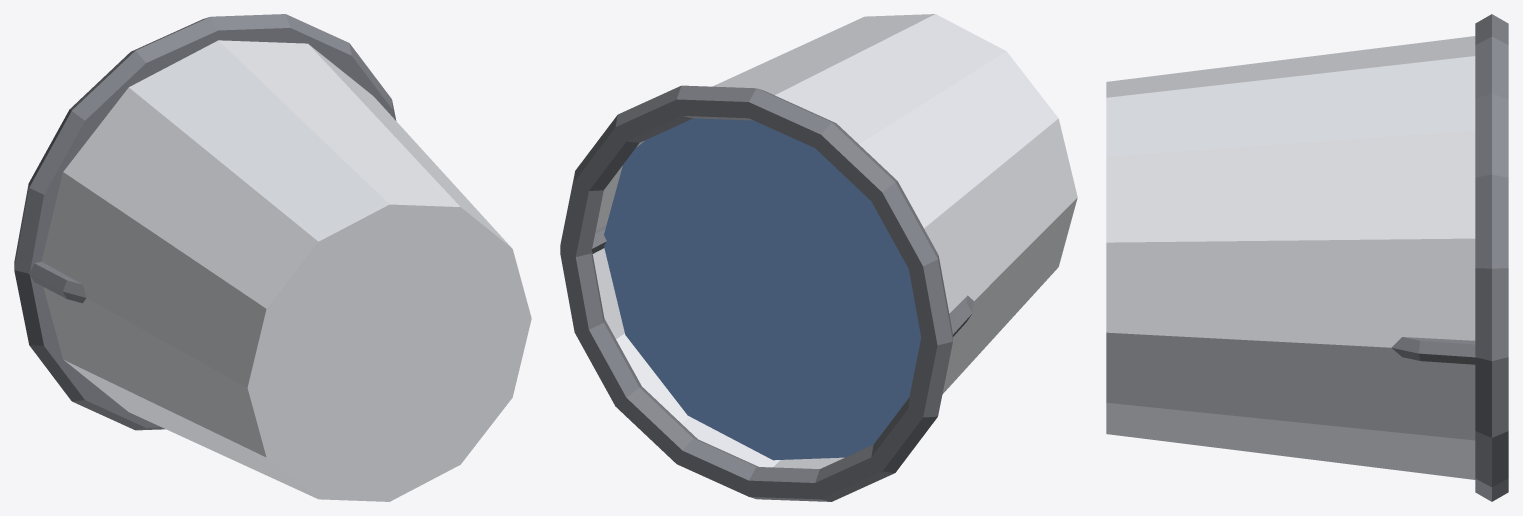
Rendered from bucket_water_held.gltf.
3 views of the same model, side by side, from view 1: azimuth 30°, elevation 25°; view 2: azimuth 150°, elevation 25°; view 3: azimuth 270°, elevation 25° (orthographic). The views are drawn at different scales.
Parts seen in each view (by area): view 1: lakes_bucket_water_held; view 2: lakes_bucket_water_held; view 3: lakes_bucket_water_held.
Part boxes in pixels (x1=…): lakes_bucket_water_held: x1=14, y1=14, x2=531, y2=501; lakes_bucket_water_held: x1=560, y1=14, x2=1077, y2=501; lakes_bucket_water_held: x1=1106, y1=14, x2=1508, y2=501.
Size of the model in its own units: 0.152 by 0.152 by 0.1252.
